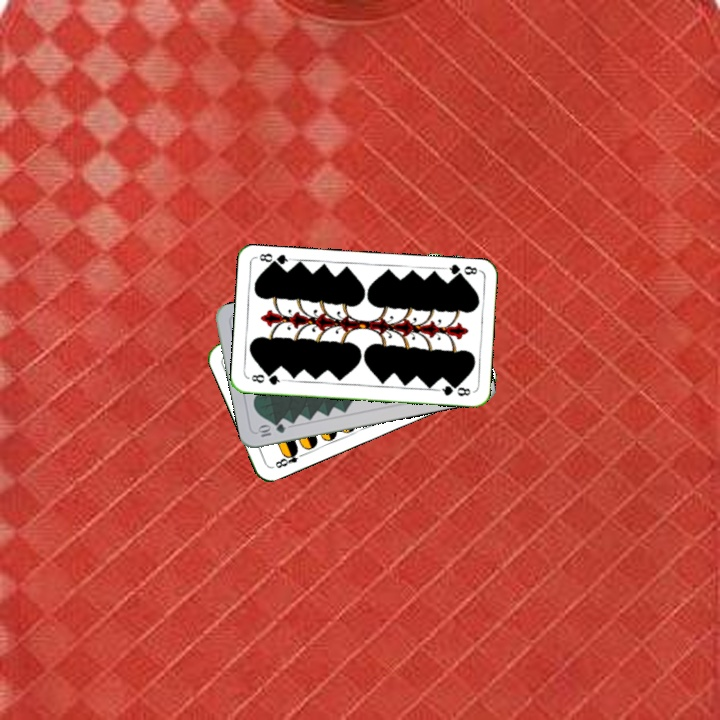E8: (269, 445, 308, 471)
G10: (254, 419, 288, 440)
G8: (441, 260, 482, 281), (247, 370, 286, 387)
